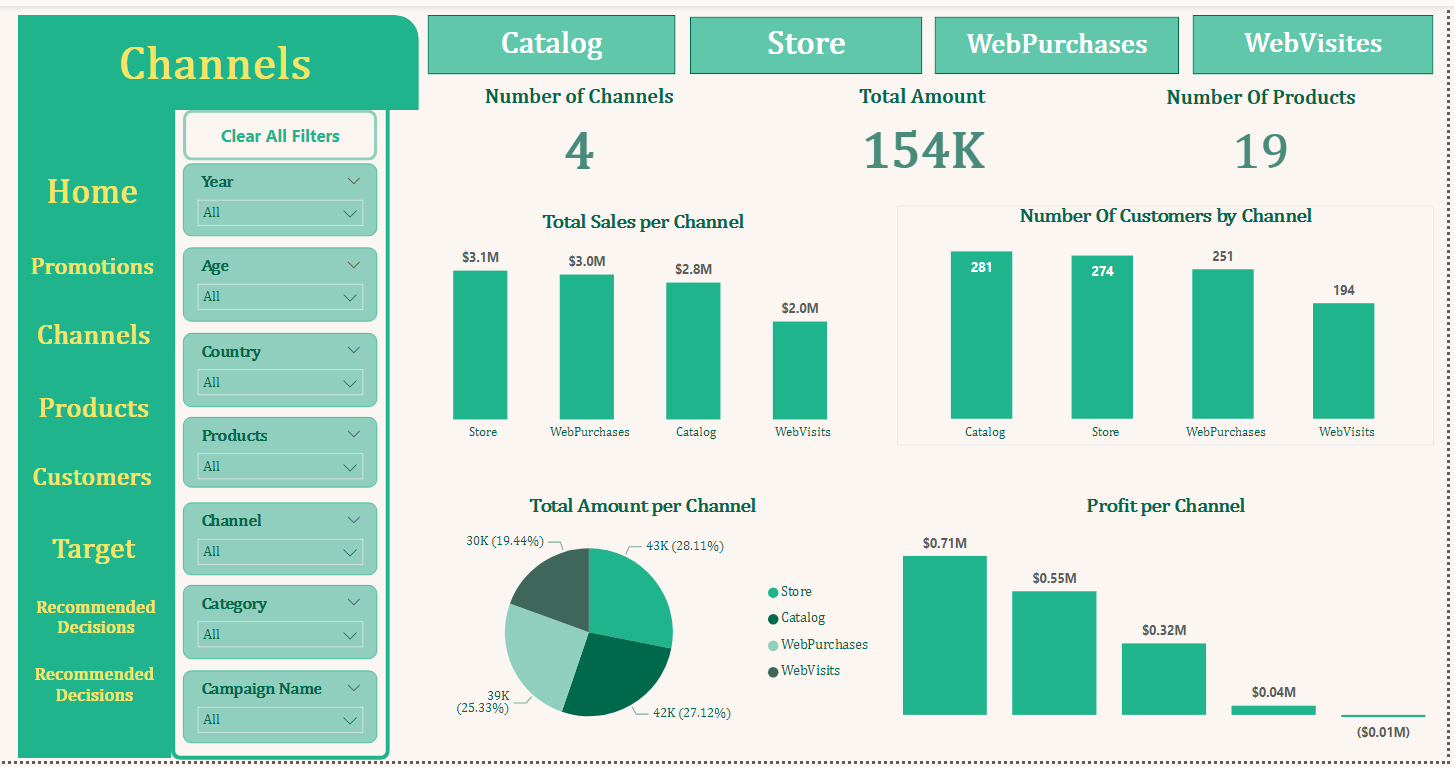

The page's visual inventory and layout, read from the dashboard file:
{"tool":"powerbi","page":{"name":"Channels","canvas":[1380,720],"ordinal":3},"visuals":[{"type":"card","title":"Number of Channels","fields":{"Values":["DAX_Measures.number of place"]},"box":[431.7,75.6,240,95],"z":0},{"type":"clusteredColumnChart","title":"Total Sales per Channel","fields":{"Y":["DAX_Measures.Total Sales"],"Category":["place.name"]},"box":[385.9,195.5,453.3,224.1],"z":1000},{"type":"pieChart","title":"Total Amount per Channel","fields":{"Y":["DAX_Measures.Total Of Amount"],"Category":["place.name"]},"box":[385.9,466.7,453.3,242.6],"z":2000},{"type":"shape","box":[408.3,8.9,236.7,56.7],"z":3000},{"type":"shape","box":[658.3,10.6,221.7,55],"z":4000},{"type":"shape","box":[891.7,10.6,233.3,55],"z":5000},{"type":"shape","box":[1138.3,8.9,230,56.7],"z":6000},{"type":"clusteredColumnChart","title":"Profit per Channel","fields":{"Y":["DAX_Measures.Profit"],"Category":["place.name"]},"box":[856,466.7,512.2,242.6],"z":7000},{"type":"card","title":"Total Amount","fields":{"Values":["DAX_Measures.Total Of Amount"]},"box":[757.5,75.6,245,95],"z":8000},{"type":"card","title":"Number Of Products","fields":{"Values":["DAX_Measures.Number Of Products"]},"box":[1088.3,77.3,230,93.3],"z":9000},{"type":"columnChart","title":"Number Of Customers by Channel","fields":{"Category":["place.name"],"Y":["DAX_Measures.Number Of Customers"]},"box":[856,190.4,512.2,229.2],"z":10000},{"type":"shape","box":[163.4,85.9,208.9,633.6],"z":11000},{"type":"slicer","fields":{"Values":["Dimdate.date.Variation.Date Hierarchy.Year"]},"box":[175.2,150,185.3,69.1],"z":12000},{"type":"slicer","fields":{"Values":["Customer.Age"]},"box":[175.2,230.8,185.3,70.8],"z":13000},{"type":"slicer","fields":{"Values":["Customer.country"]},"box":[175.2,311.7,185.3,70.8],"z":14000},{"type":"slicer","fields":{"Values":["Products.Products"]},"box":[175.2,392.6,185.3,67.4],"z":15000},{"type":"slicer","fields":{"Values":["place.name"]},"box":[175.2,473.5,185.3,69.1],"z":16000},{"type":"slicer","fields":{"Values":["Products.Category"]},"box":[175.2,552.7,185.3,70.8],"z":17000},{"type":"slicer","fields":{"Values":["promotion.name"]},"box":[175.2,633.6,185.3,69.1],"z":18000},{"type":"actionButton","box":[175.2,99.4,185.3,48.9],"z":19000},{"type":"shape","box":[16.8,85.9,146.6,631.9],"z":20000},{"type":"shape","box":[16.8,8.4,382.5,91],"z":21000},{"type":"actionButton","box":[24.7,151.3,126.4,55.6],"z":22000},{"type":"actionButton","box":[24.7,222.1,126.4,55.6],"z":23000},{"type":"actionButton","box":[26.4,287.8,126.4,55.6],"z":24000},{"type":"actionButton","box":[26.4,358.6,126.4,55.6],"z":25000},{"type":"actionButton","box":[24.7,422.6,126.4,55.6],"z":26000},{"type":"actionButton","box":[26.4,491.7,126.4,55.6],"z":27000},{"type":"actionButton","box":[25.6,547,130.5,75],"z":28000},{"type":"actionButton","box":[24.9,611.2,130.3,75.2],"z":29000}]}

Visuals, with their boxes in screenshot pixels (x1, y1, x2, y2), scaled from the page's 1380x720 canvas onto the 1454x767 screenshot:
"Number of Channels" card: 455,81,708,182
"Total Sales per Channel" clusteredColumnChart: 407,208,884,447
"Total Amount per Channel" pieChart: 407,497,884,756
shape: 430,9,680,70
shape: 694,11,927,70
shape: 940,11,1185,70
shape: 1199,9,1442,70
"Profit per Channel" clusteredColumnChart: 902,497,1442,756
"Total Amount" card: 798,81,1056,182
"Number Of Products" card: 1147,82,1389,182
"Number Of Customers by Channel" columnChart: 902,203,1442,447
shape: 172,92,392,766
slicer - Dimdate.date.Variation.Date Hierarchy.Year: 185,160,380,233
slicer - Customer.Age: 185,246,380,321
slicer - Customer.country: 185,332,380,407
slicer - Products.Products: 185,418,380,490
slicer - place.name: 185,504,380,578
slicer - Products.Category: 185,589,380,664
slicer - promotion.name: 185,675,380,749
actionButton: 185,106,380,158
shape: 18,92,172,765
shape: 18,9,421,106
actionButton: 26,161,159,220
actionButton: 26,237,159,296
actionButton: 28,307,161,366
actionButton: 28,382,161,441
actionButton: 26,450,159,509
actionButton: 28,524,161,583
actionButton: 27,583,164,663
actionButton: 26,651,164,731
